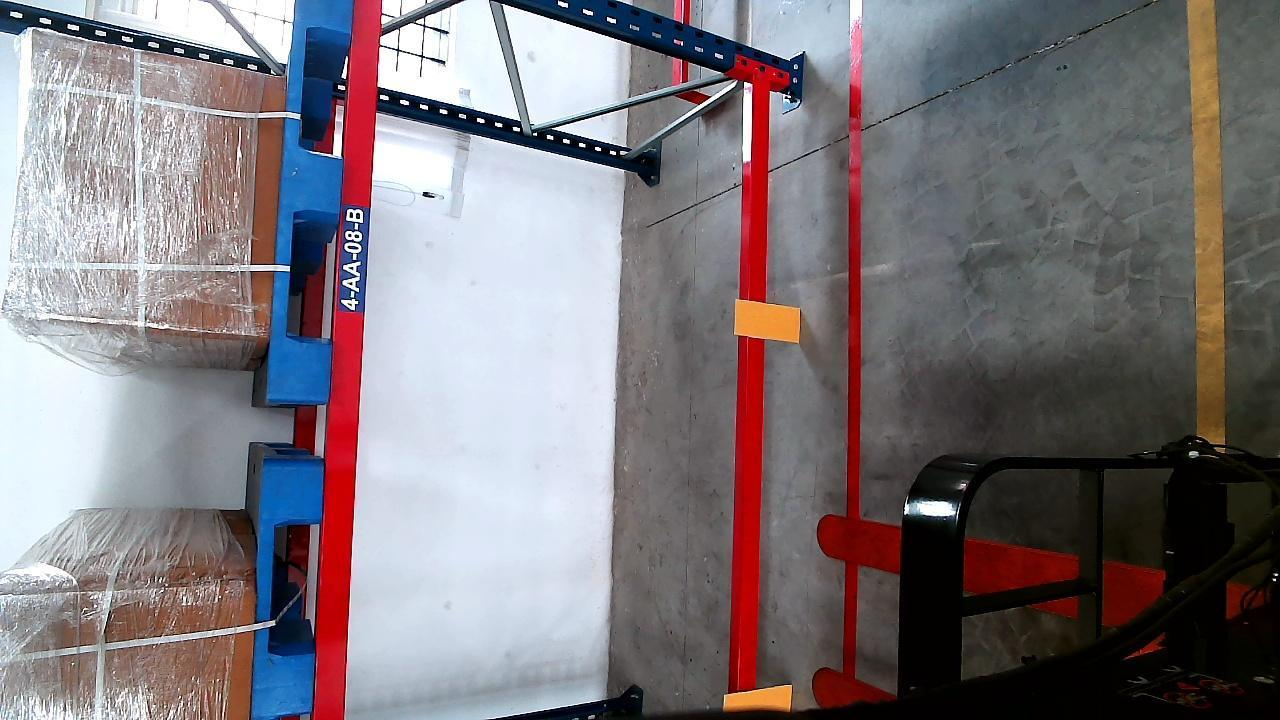h_rack: (318, 1, 381, 720), (734, 82, 772, 709)
orange_strip: (737, 300, 803, 341), (722, 683, 799, 713)
red_line: (842, 3, 869, 514)
small_pallet: (270, 1, 355, 396), (253, 465, 322, 717)
yellow_line: (1192, 0, 1230, 453)
